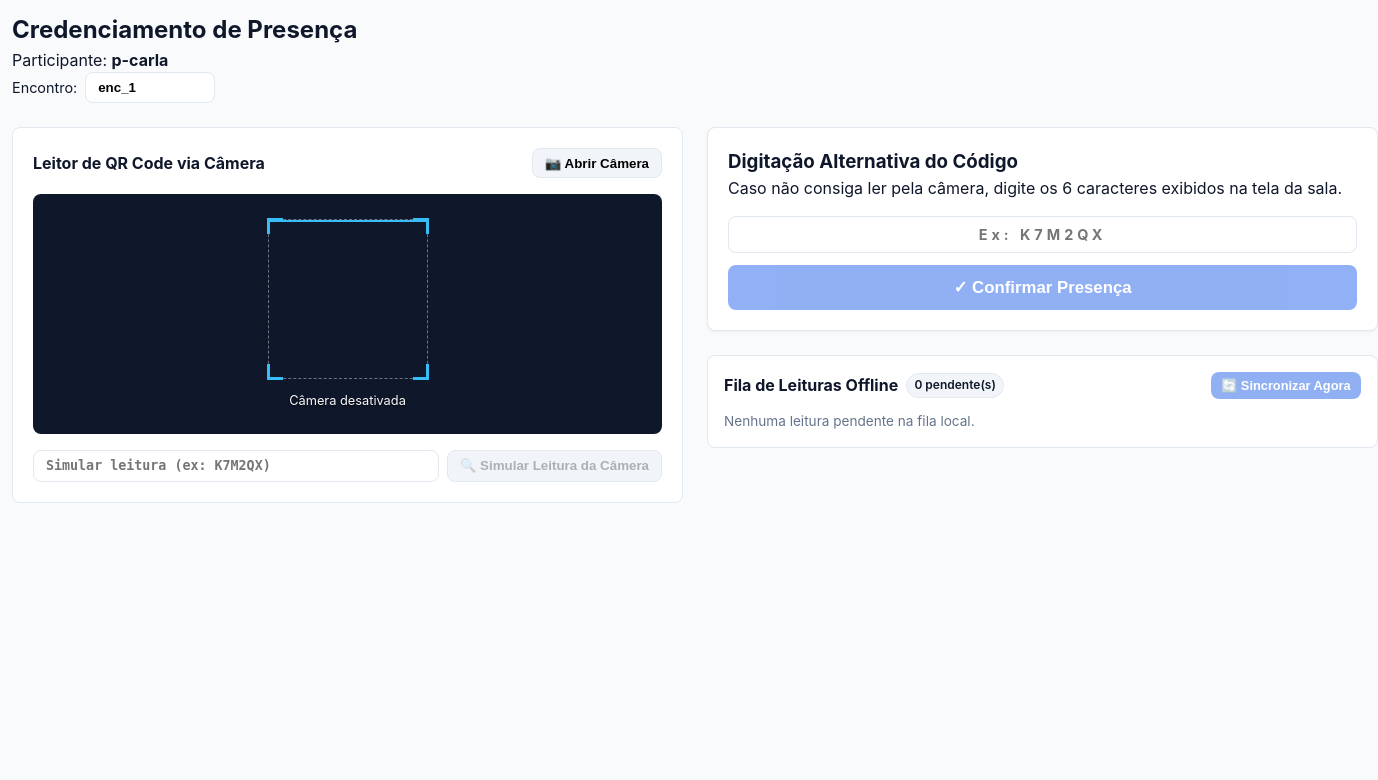
M3 — Tela do Participante › permite registrar presença online via digitação do código de 6 caracteres
Expected: the button with test id "btn-confirmar-presenca" is disabled, [728,265,1357,310]
Type "K7M2" into the field with test id "input-codigo-manual". click: {"x": 1042, "y": 235}
box: [728,216,1357,253]
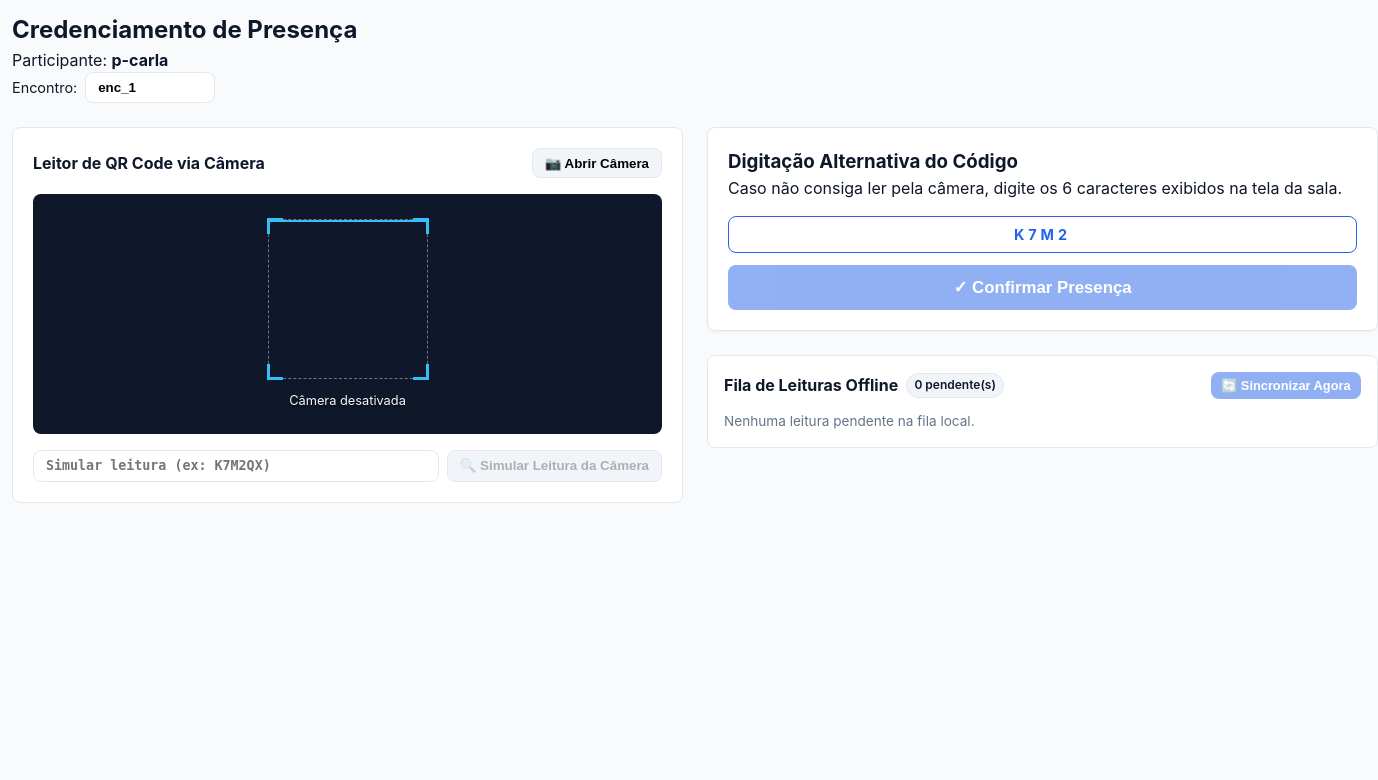
Expected: the button with test id "btn-confirmar-presenca" is disabled, [728,265,1357,310]
Note: Completa os 6 caracteres válidos
Type "QX" into the field with test id "input-codigo-manual". click: {"x": 1042, "y": 235}
box: [728,216,1357,253]
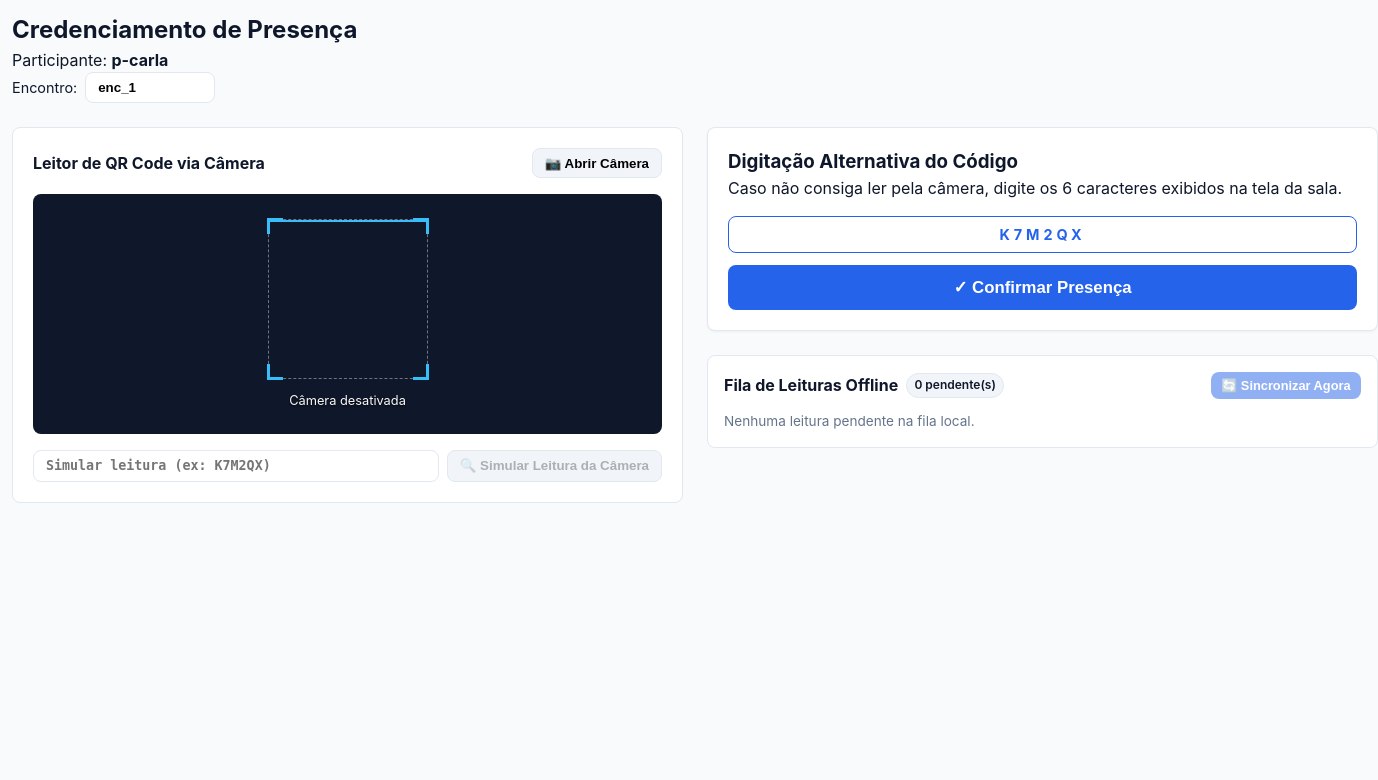
Result: the field with test id "input-codigo-manual" holds "K7M2QX" at [728,216,1357,253]
Result: the button with test id "btn-confirmar-presenca" is enabled
Click the button with test id "btn-confirmar-presenca". click: {"x": 1042, "y": 288}
box: [728,265,1357,310]
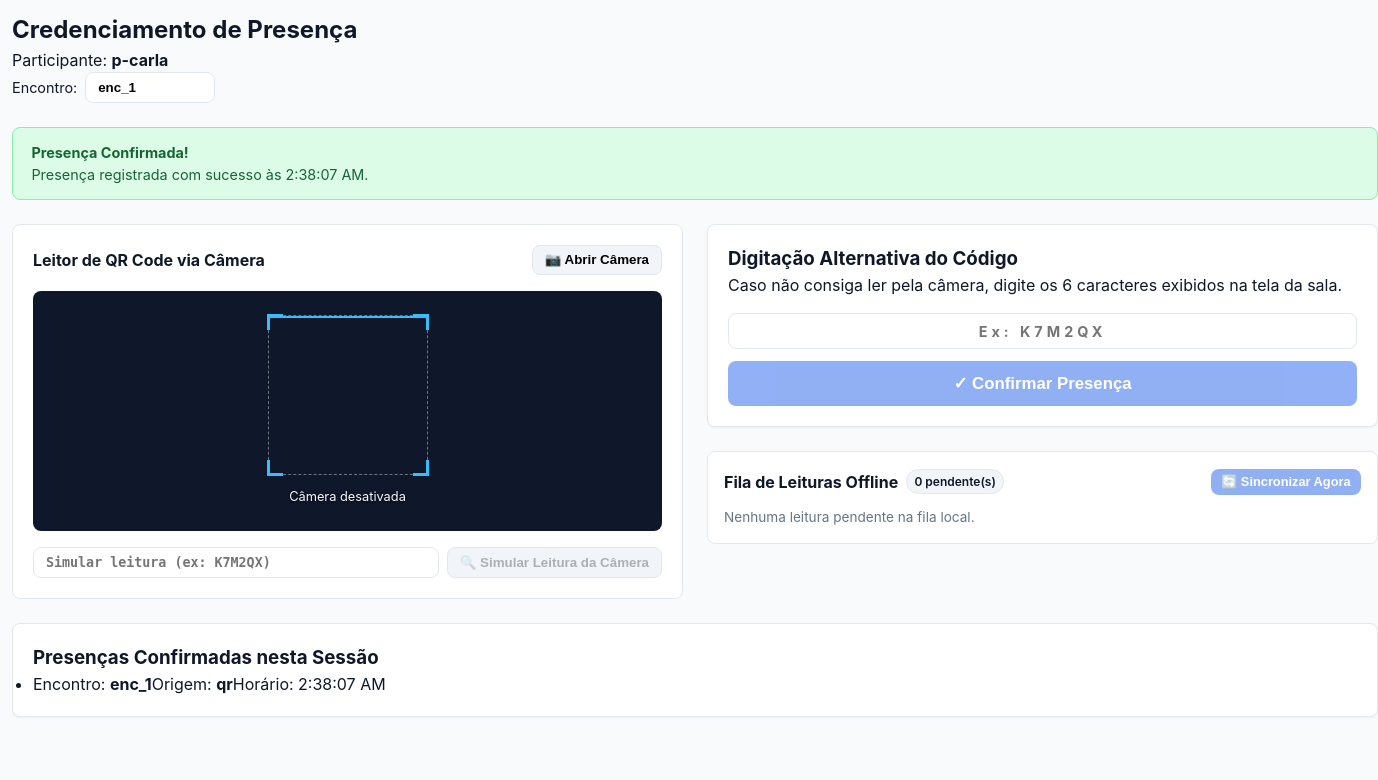
Result: the element with test id "participante-feedback" shows "Presença Confirmada!" at [31,144,189,161]
Result: the list with test id "historico-presencas" is shown at [33,674,386,694]
